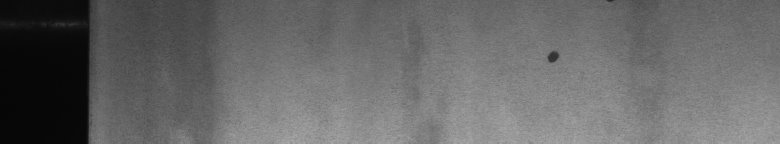fi: (540, 44, 565, 71)
